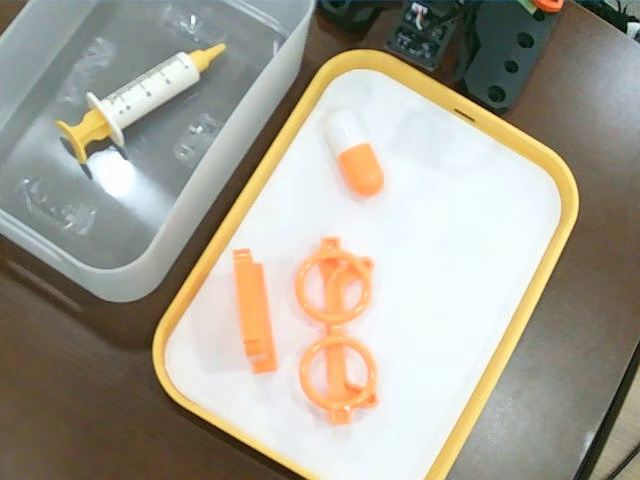pill: (325, 106, 387, 199)
syringe: (52, 38, 229, 165)
